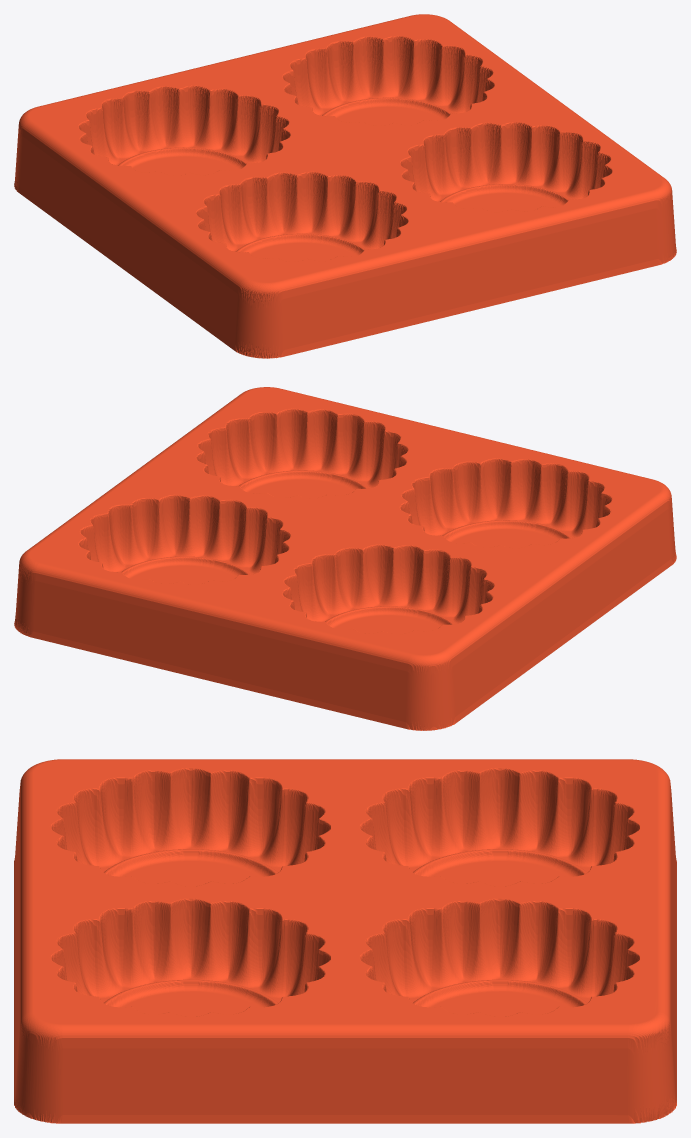
Rendered from mold.glb.
The picture shows the model from 3 angles, top to bottom: view 1: azimuth 30°, elevation 25°; view 2: azimuth 150°, elevation 25°; view 3: azimuth 270°, elevation 25°; orthographic projection. The views are drawn at different scales.
Visible parts, largest first — view 1: geometry_0; view 2: geometry_0; view 3: geometry_0.
Boxes of the visible parts, x1,y1,x2,y2 form: geometry_0: (14,14,676,358); geometry_0: (14,387,676,730); geometry_0: (14,759,676,1123).
Bounding box in the file's own units: 0.1218 × 0.0185 × 0.1218.
